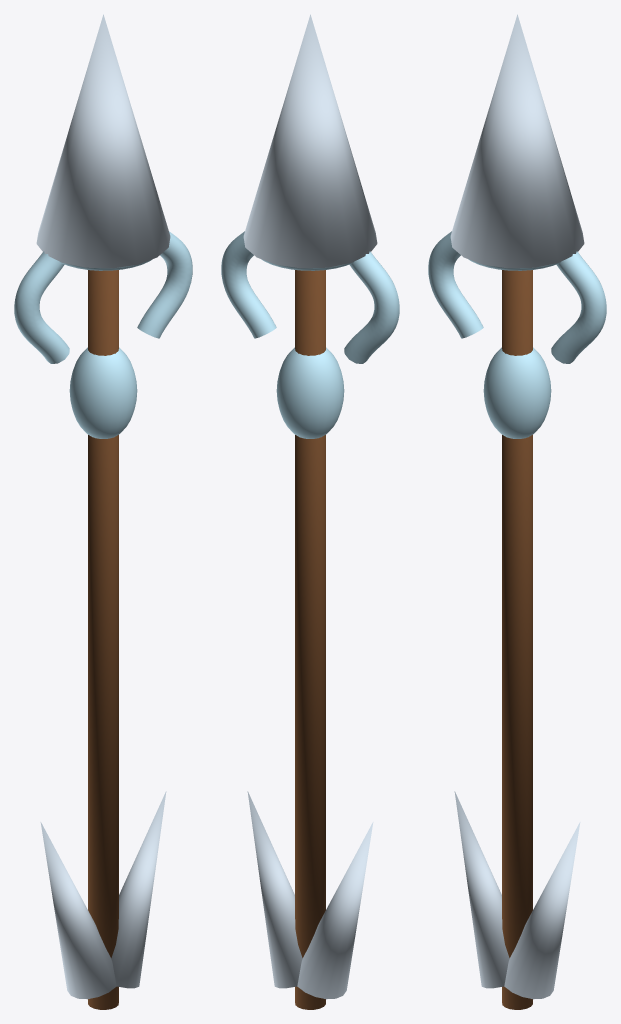
Rendered from LunarArrowModel.fbx.
The picture shows the model from 3 angles, left to right: view 1: azimuth 30°, elevation 25°; view 2: azimuth 150°, elevation 25°; view 3: azimuth 330°, elevation 25°; orthographic projection.
Visible parts, largest first — view 1: Artemis Arrow Shaft, Moon Arrowhead, Moon Arrow Feather, Lunar Energy Gem, Moon Arrow Feather.001, Crescent Moon Detail, Crescent Moon Detail.001; view 2: Artemis Arrow Shaft, Moon Arrowhead, Moon Arrow Feather, Lunar Energy Gem, Moon Arrow Feather.001, Crescent Moon Detail, Crescent Moon Detail.001; view 3: Artemis Arrow Shaft, Moon Arrowhead, Moon Arrow Feather.001, Lunar Energy Gem, Moon Arrow Feather, Crescent Moon Detail.001, Crescent Moon Detail.
Boxes of the visible parts, <box> form: Artemis Arrow Shaft: <box>88,270,118,1009</box>; Moon Arrowhead: <box>36,14,170,268</box>; Moon Arrow Feather: <box>40,822,116,999</box>; Lunar Energy Gem: <box>69,347,137,438</box>; Moon Arrow Feather.001: <box>111,791,166,988</box>; Crescent Moon Detail: <box>14,251,69,363</box>; Crescent Moon Detail.001: <box>137,231,192,338</box>; Artemis Arrow Shaft: <box>295,270,325,1009</box>; Moon Arrowhead: <box>243,14,377,268</box>; Moon Arrow Feather: <box>297,822,373,999</box>; Lunar Energy Gem: <box>276,347,344,438</box>; Moon Arrow Feather.001: <box>247,791,302,988</box>; Crescent Moon Detail: <box>344,251,399,363</box>; Crescent Moon Detail.001: <box>221,231,276,338</box>; Artemis Arrow Shaft: <box>502,270,532,1009</box>; Moon Arrowhead: <box>450,14,584,268</box>; Moon Arrow Feather.001: <box>504,822,580,999</box>; Lunar Energy Gem: <box>483,347,551,438</box>; Moon Arrow Feather: <box>454,791,509,988</box>; Crescent Moon Detail.001: <box>551,251,606,363</box>; Crescent Moon Detail: <box>428,231,483,338</box>.
Size of the model in its own units: 38.75 by 210 by 26.
